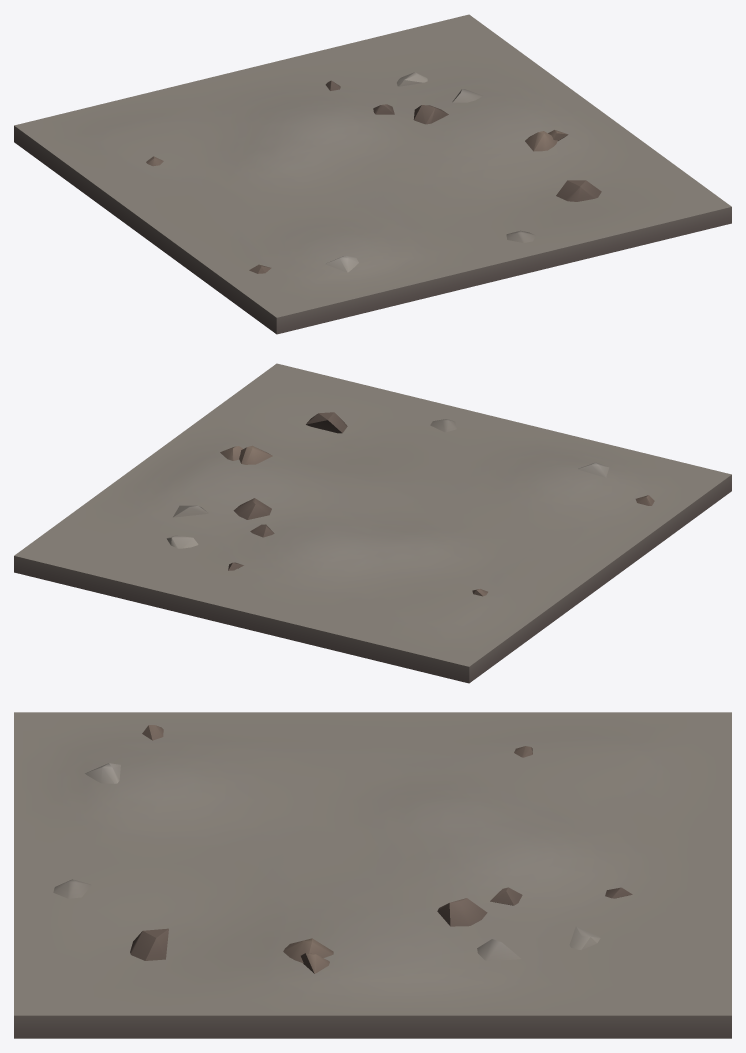
The model's file is floor_cave_large_F.glb.
The picture shows the model from 3 angles, top to bottom: view 1: azimuth 30°, elevation 25°; view 2: azimuth 150°, elevation 25°; view 3: azimuth 270°, elevation 25°; orthographic projection. The views are drawn at different scales.
Parts seen in each view (by area): view 1: Item; view 2: Item; view 3: Item.
Boxes of the visible parts, x1=… form: Item: x1=14, y1=14, x2=731, y2=334; Item: x1=14, y1=363, x2=731, y2=683; Item: x1=14, y1=712, x2=731, y2=1038.
Size of the model in its own units: 4 by 0.272 by 4.
1 material, 1 textured.
